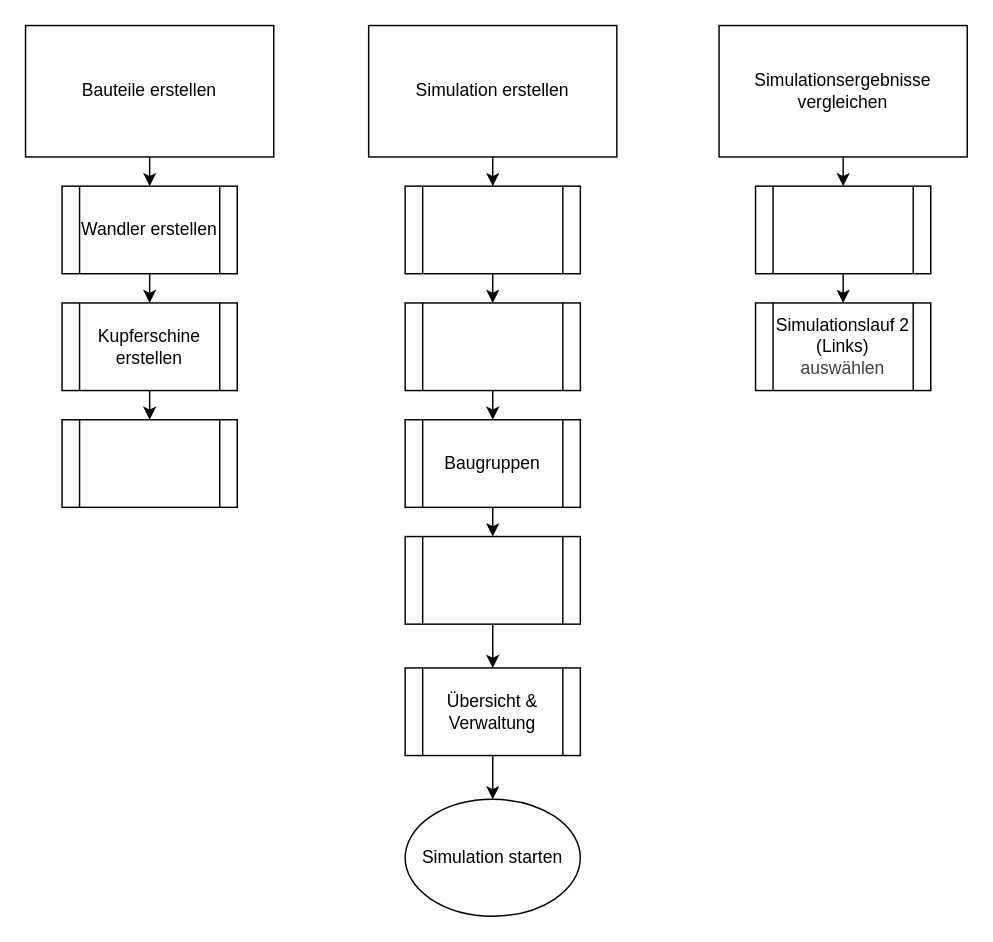
Image size: 993x942. Some labels were removed from this diagram. The shapes that lost their labels are listed below. From the top down, each one's centre as x and y in pixels, then its label:
point 492,229: Allgemeine Parameter
point 842,229: Simulationslauf 1 (Links) auswählen
point 492,346: Elektrisches System
point 149,462: Material erstellen
point 492,579: Analyse & Ausgabe
